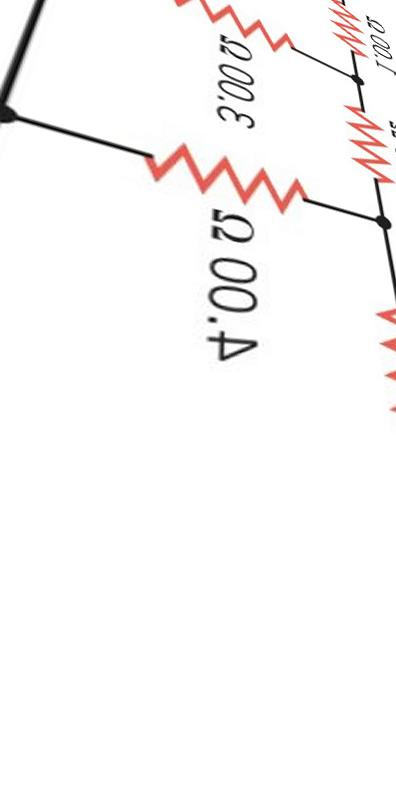resistor: (127, 114, 309, 208), (324, 92, 388, 189), (160, 13, 315, 50)
